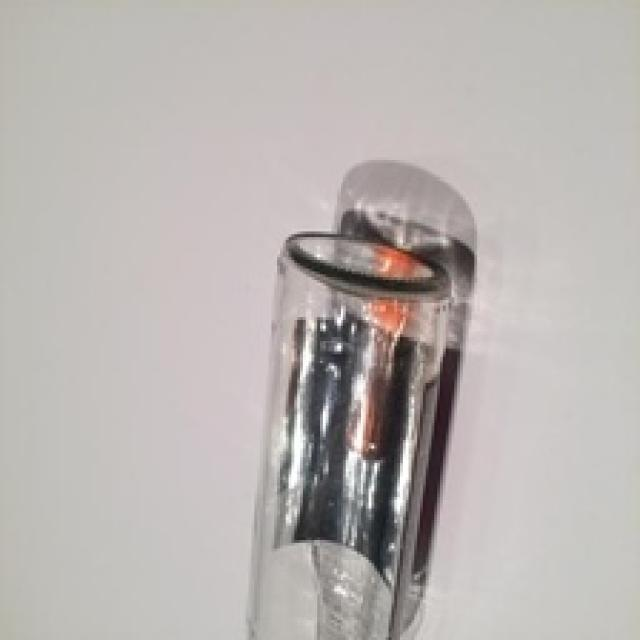Glass: (245, 231, 450, 640)
